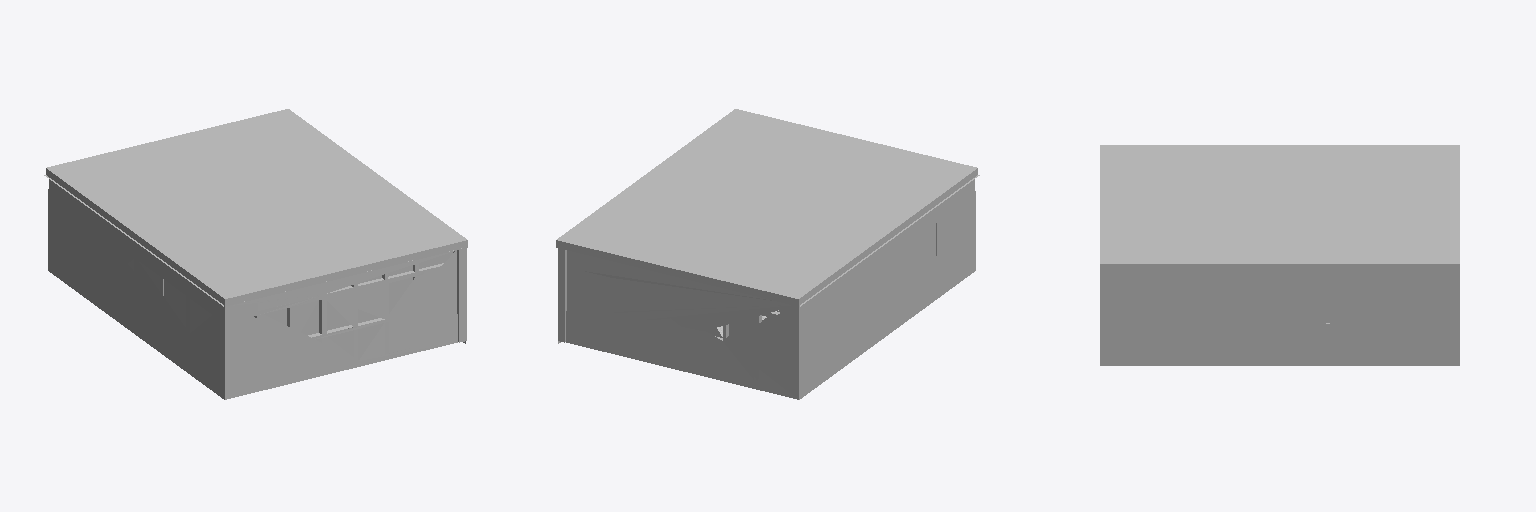
The picture shows the model from 3 angles: view 1: azimuth 30°, elevation 25°; view 2: azimuth 150°, elevation 25°; view 3: azimuth 270°, elevation 25°; orthographic projection.
Visible parts, largest first — view 1: Cubo, Plano.001, Ventanas_delanteras, Ventanas_inferiores_completas; view 2: Cubo, Plano.001, Ventanas_delanteras; view 3: Cubo, Plano.001, Ventanas_traseras.
Boxes of the visible parts, x1=… form: Cubo: x1=46, y1=109, x2=467, y2=306; Plano.001: x1=44, y1=175, x2=466, y2=399; Ventanas_delanteras: x1=128, y1=259, x2=211, y2=332; Ventanas_inferiores_completas: x1=316, y1=323, x2=383, y2=359; Cubo: x1=556, y1=109, x2=977, y2=306; Plano.001: x1=558, y1=175, x2=979, y2=399; Ventanas_delanteras: x1=879, y1=204, x2=962, y2=276; Cubo: x1=1100, y1=145, x2=1459, y2=270; Plano.001: x1=1100, y1=271, x2=1459, y2=365; Ventanas_traseras: x1=1183, y1=289, x2=1412, y2=322.
Bounding box in the file's own units: 34.34 × 13.91 × 43.71.
4 materials, 1 textured.